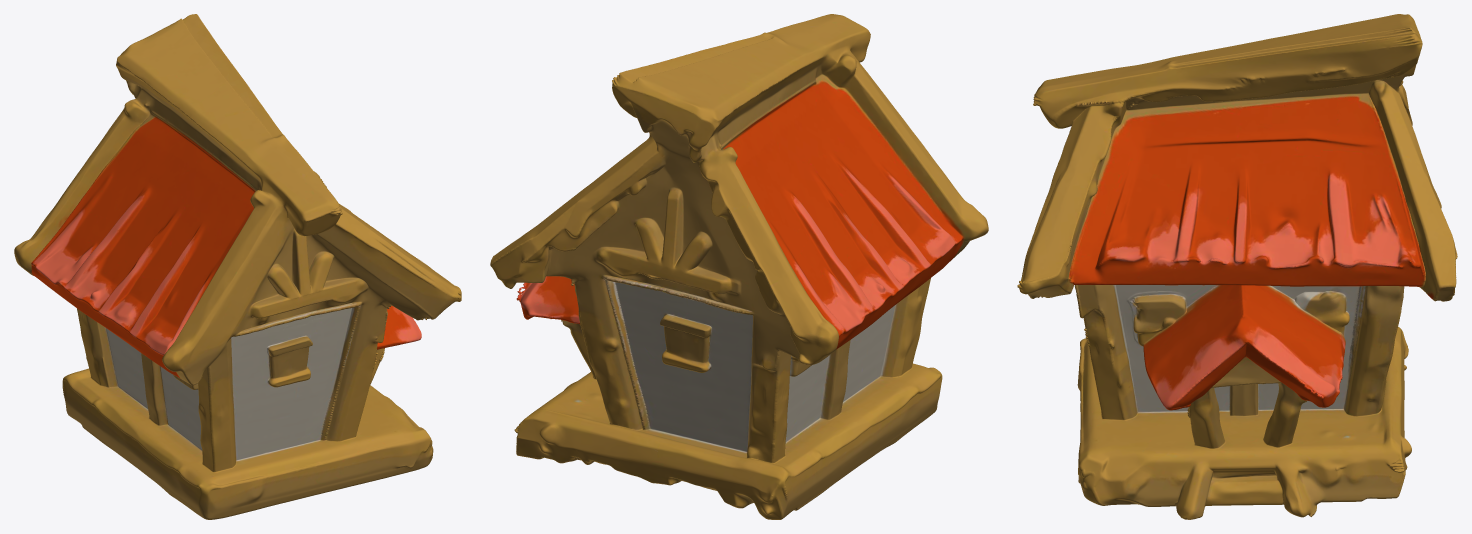
Rendered from resHouse_03.fbx.
3 renders of one model, left to right at view 1: azimuth 30°, elevation 25°; view 2: azimuth 150°, elevation 25°; view 3: azimuth 270°, elevation 25°, orthographic. The views are drawn at different scales.
Parts seen in each view (by area): view 1: tripo_node_ac79020e-9a7d-4af5-868e-2c00cee977c3; view 2: tripo_node_ac79020e-9a7d-4af5-868e-2c00cee977c3; view 3: tripo_node_ac79020e-9a7d-4af5-868e-2c00cee977c3.
Boxes of the visible parts, x1,y1,x2,y2 form: tripo_node_ac79020e-9a7d-4af5-868e-2c00cee977c3: (14,14,461,519); tripo_node_ac79020e-9a7d-4af5-868e-2c00cee977c3: (490,14,988,519); tripo_node_ac79020e-9a7d-4af5-868e-2c00cee977c3: (1017,14,1457,519).
Size of the model in its own units: 86.71 by 97.87 by 92.55.
1 material, 1 textured.
